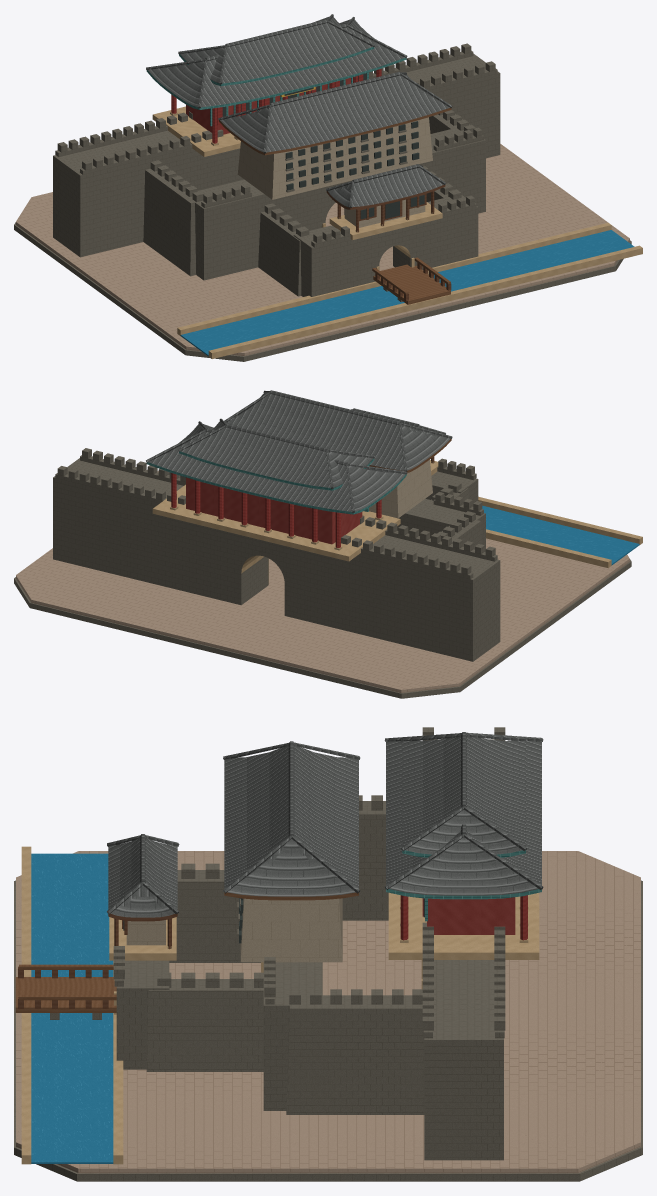
Rendered from xian-city-wall.glb.
3 renders of one model, top to bottom at view 1: azimuth 30°, elevation 25°; view 2: azimuth 150°, elevation 25°; view 3: azimuth 270°, elevation 25°, orthographic. The views are drawn at different scales.
Visible parts, largest first — view 1: 西安城墙·永宁门; view 2: 西安城墙·永宁门; view 3: 西安城墙·永宁门.
Part boxes in pixels (x1=…): 西安城墙·永宁门: x1=14, y1=14, x2=642, y2=361; 西安城墙·永宁门: x1=14, y1=390, x2=642, y2=698; 西安城墙·永宁门: x1=14, y1=727, x2=642, y2=1181.
Bounding box in the file's own units: 15 × 5.53 × 12.48.
13 materials, 13 textured.
